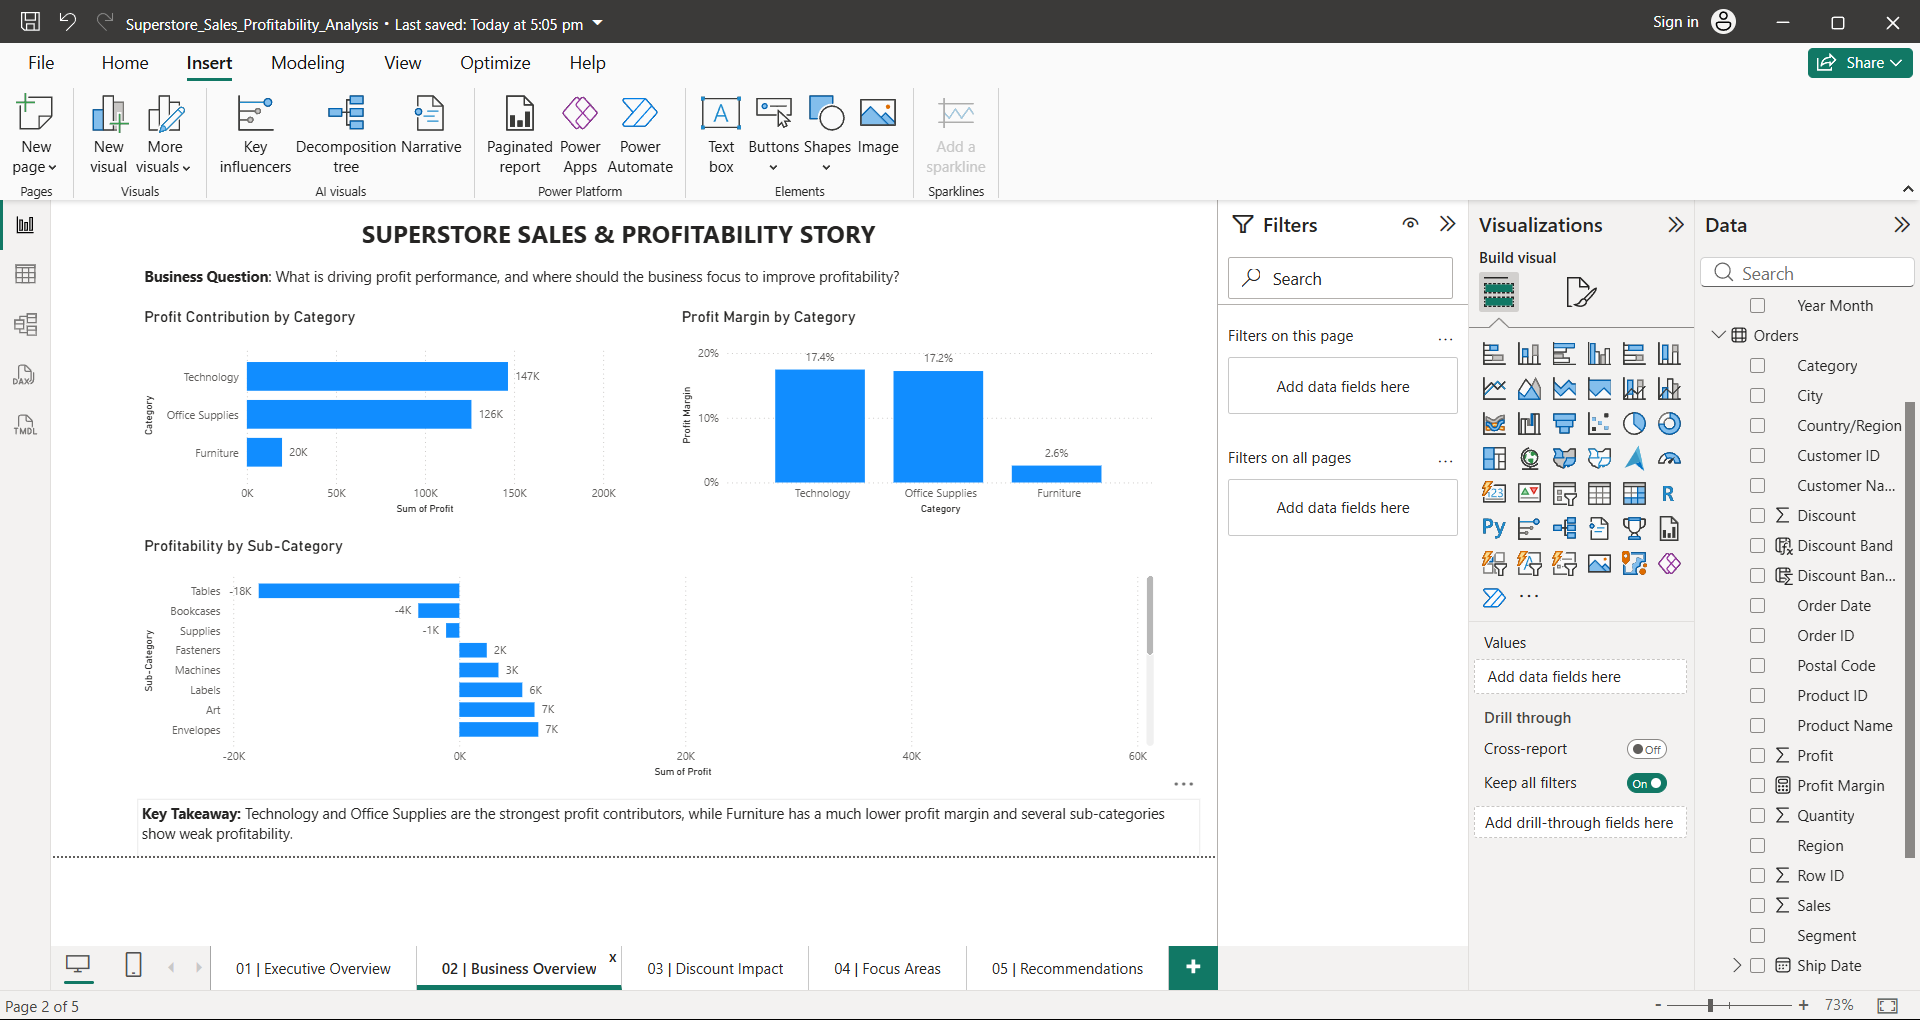

This screenshot's page, from the dashboard's own definition file:
{"tool":"powerbi","page":{"name":"02 | Business Overview","canvas":[1280,720],"ordinal":1},"visuals":[{"type":"textbox","box":[336.2,13.7,668.3,53.5],"z":0},{"type":"textbox","box":[97.4,67.2,1042.9,34.3],"z":1},{"type":"clusteredBarChart","title":"Profit Contribution by Category","fields":{"Category":["Orders.Category"],"Y":["Sum(Orders.Profit)"]},"box":[97.4,118,528,231.9],"z":2},{"type":"clusteredColumnChart","fields":{"Category":["Orders.Category"],"Y":["Orders.Profit Margin"]},"box":[687.5,118,528.3,231.9],"z":3},{"type":"clusteredBarChart","title":"Profitability by Sub-Category","fields":{"Category":["Orders.Sub-Category"],"Y":["Sum(Orders.Profit)"]},"box":[97.4,369.1,1118.4,269],"z":4},{"type":"textbox","box":[94.7,657.3,1166.4,63.1],"z":5}]}

Visuals, with their boxes on the page's 1280x720 design canvas (x1, y1, x2, y2). These are canvas units, not pixel positions in the 1920x1020 screenshot, which may show the page scaled, cropped or inside an application window:
textbox: {"x1": 336, "y1": 14, "x2": 1004, "y2": 67}
textbox: {"x1": 97, "y1": 67, "x2": 1140, "y2": 102}
"Profit Contribution by Category" clusteredBarChart: {"x1": 97, "y1": 118, "x2": 625, "y2": 350}
clusteredColumnChart - Orders.Category x Orders.Profit Margin: {"x1": 688, "y1": 118, "x2": 1216, "y2": 350}
"Profitability by Sub-Category" clusteredBarChart: {"x1": 97, "y1": 369, "x2": 1216, "y2": 638}
textbox: {"x1": 95, "y1": 657, "x2": 1261, "y2": 720}
